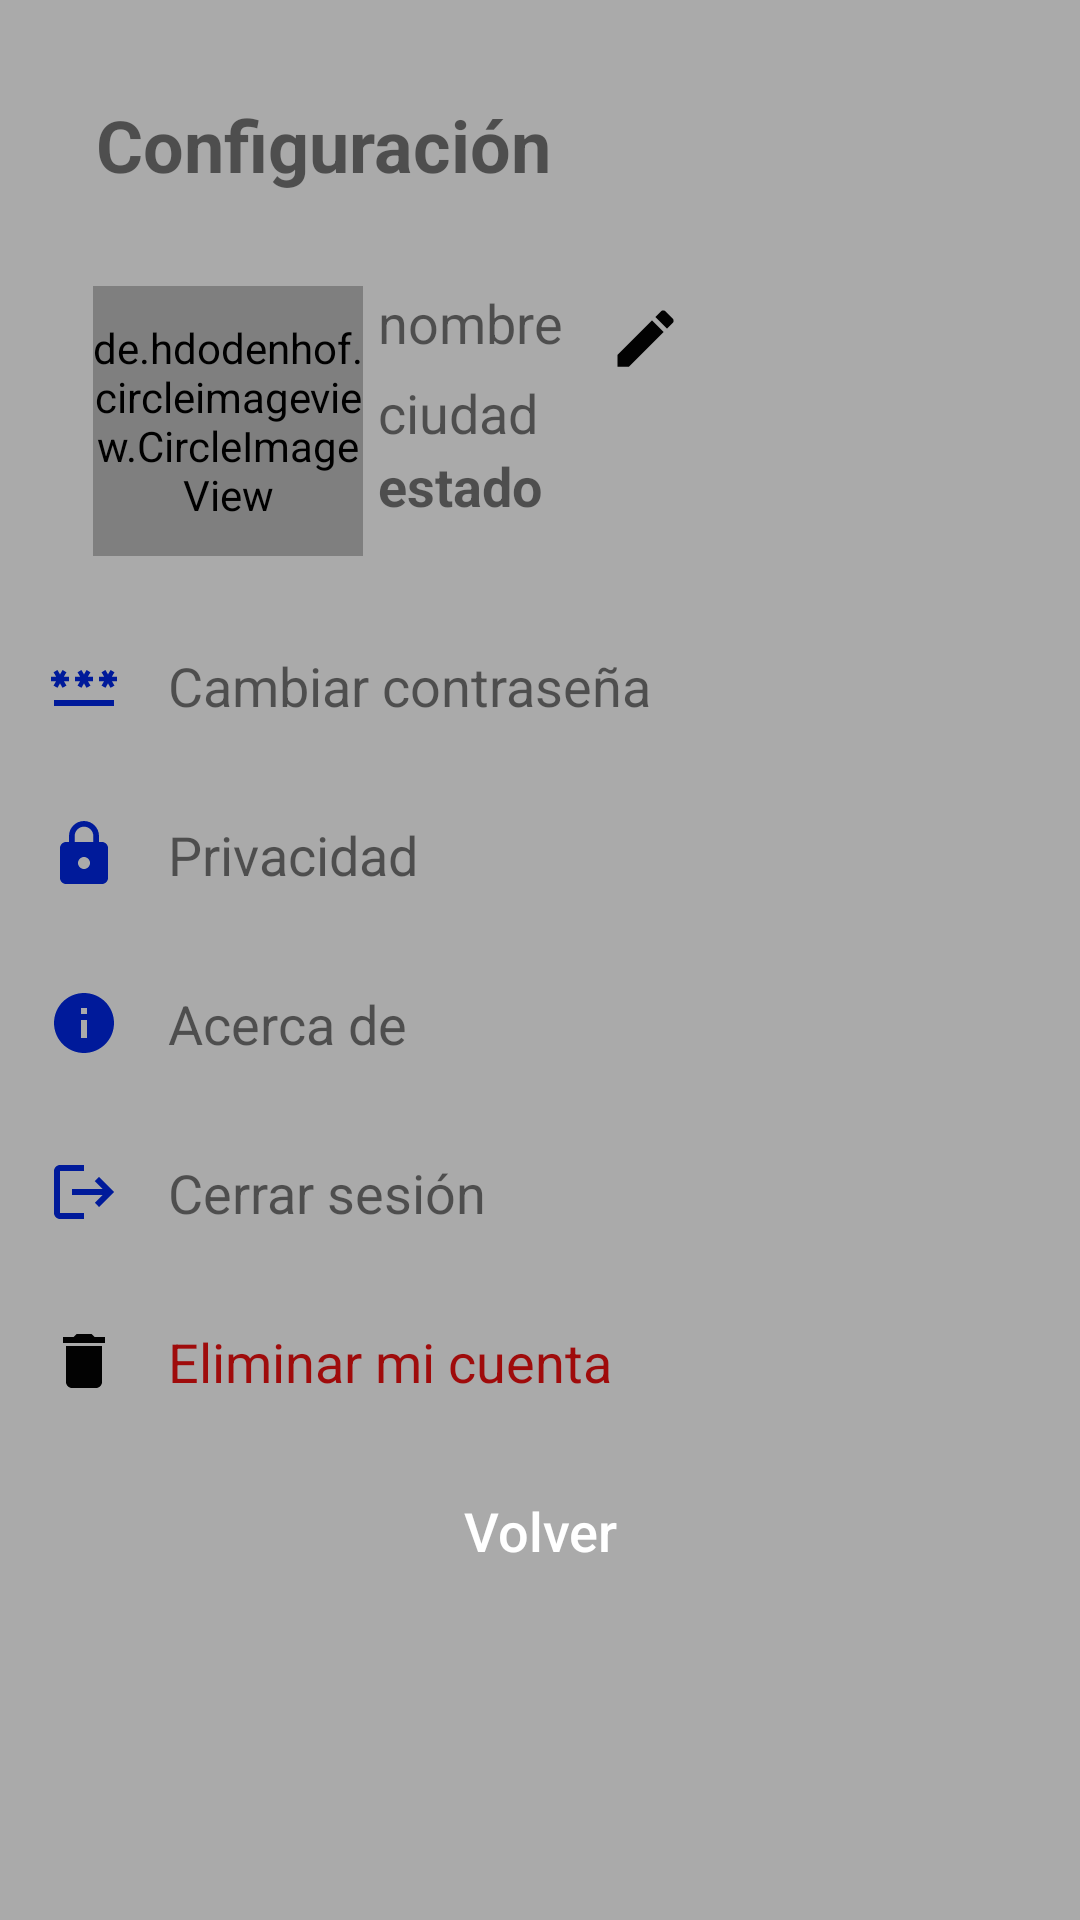

Locate icon controls on the screen. Image size 1080px x 1920px, boxes as (x1, y1, x2, y2).
delete: (63, 1334, 105, 1388)
edit: (617, 310, 674, 367)
info: (54, 993, 114, 1053)
lock: (60, 821, 108, 884)
password: (51, 670, 117, 706)
